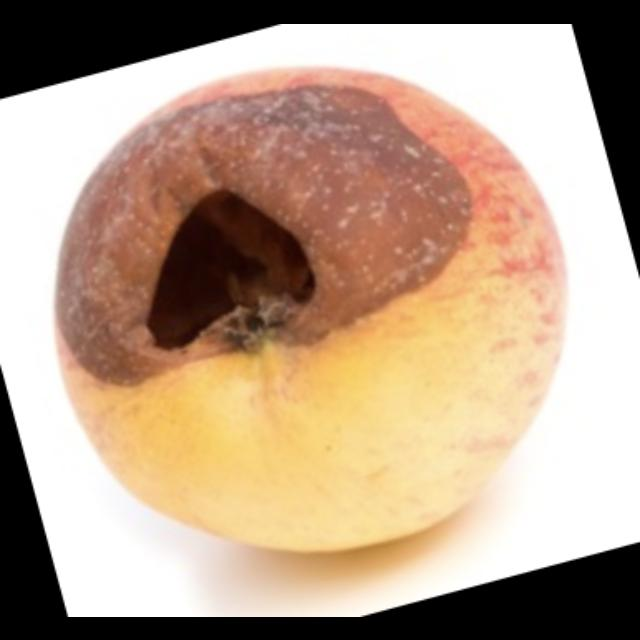Apel Tidak Segar: (28, 77, 606, 585)
